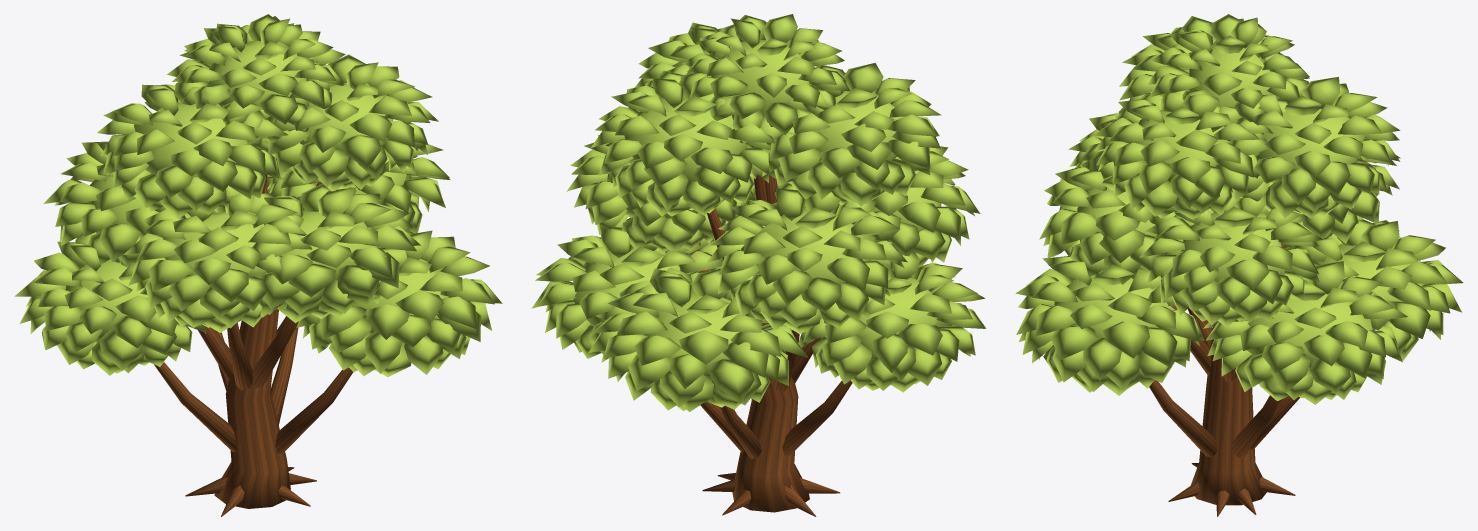
Rendered from SpreadingOak.fbx.
3 renders of one model, left to right at view 1: azimuth 30°, elevation 25°; view 2: azimuth 150°, elevation 25°; view 3: azimuth 270°, elevation 25°, orthographic.
Visible parts, largest first — view 1: SM_SpreadingOak_Foliage_LOD0, SM_SpreadingOak_Bark_LOD0; view 2: SM_SpreadingOak_Foliage_LOD0, SM_SpreadingOak_Bark_LOD0; view 3: SM_SpreadingOak_Foliage_LOD0, SM_SpreadingOak_Bark_LOD0.
Boxes of the visible parts, bbox=[...] form: SM_SpreadingOak_Foliage_LOD0: bbox=[14, 14, 502, 376]; SM_SpreadingOak_Bark_LOD0: bbox=[154, 174, 353, 516]; SM_SpreadingOak_Foliage_LOD0: bbox=[531, 14, 986, 411]; SM_SpreadingOak_Bark_LOD0: bbox=[689, 174, 852, 516]; SM_SpreadingOak_Foliage_LOD0: bbox=[1015, 14, 1463, 404]; SM_SpreadingOak_Bark_LOD0: bbox=[1149, 188, 1300, 516].
Size of what is drawn, in the model's own units: 6.98 by 7.82 by 6.85.
Materials: 2 (1 with a texture image).
